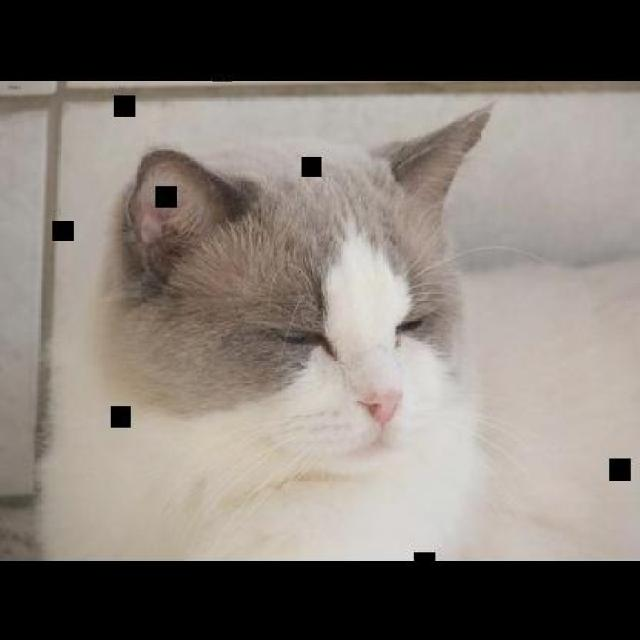unauthorized: (34, 97, 512, 558)
